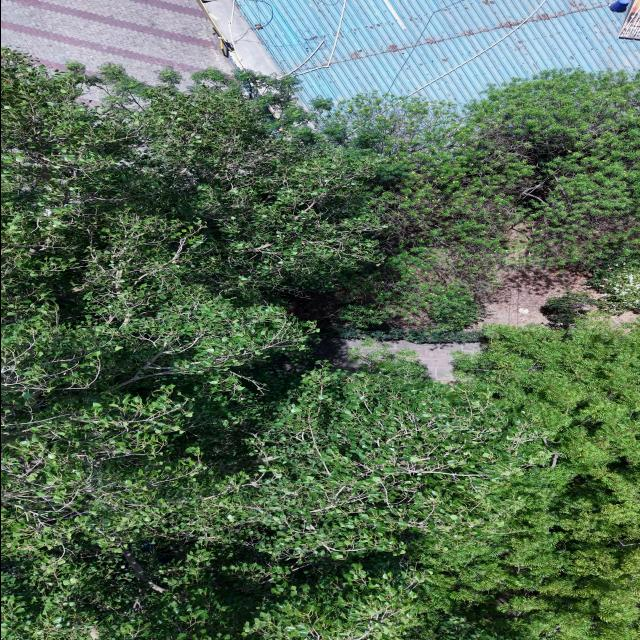DRY_AREA: (1, 0, 232, 82), (478, 224, 601, 326), (478, 265, 598, 326), (477, 265, 588, 326), (478, 266, 589, 327), (480, 265, 587, 326), (380, 340, 481, 381), (382, 340, 481, 380)
ROOFTOP_BUILDING: (238, 0, 639, 103)
VEGETATION_TREE: (1, 50, 639, 639), (3, 324, 639, 639), (328, 69, 639, 327), (409, 324, 639, 639), (590, 258, 639, 312)
